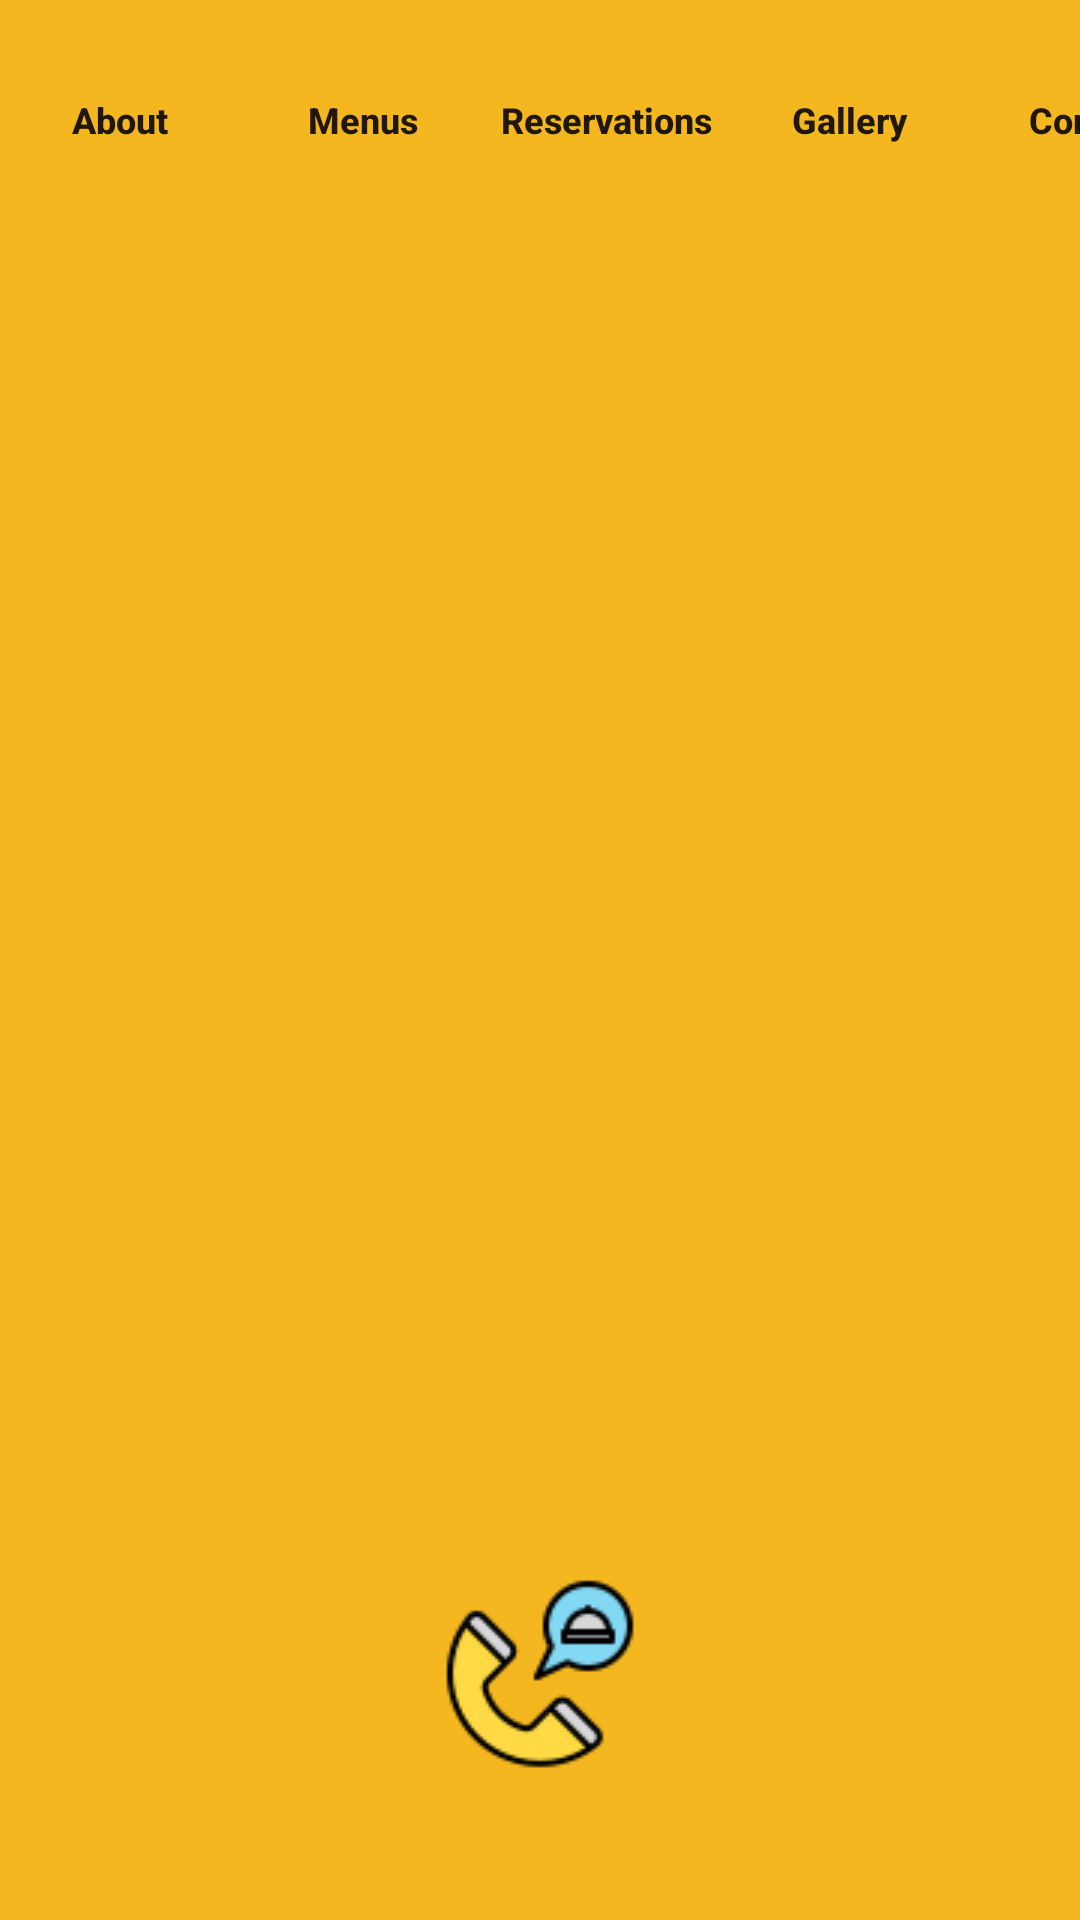

Screen size 1080×1920. Icon name, then its center in pixels as (x,y):
order: (540,1674)
